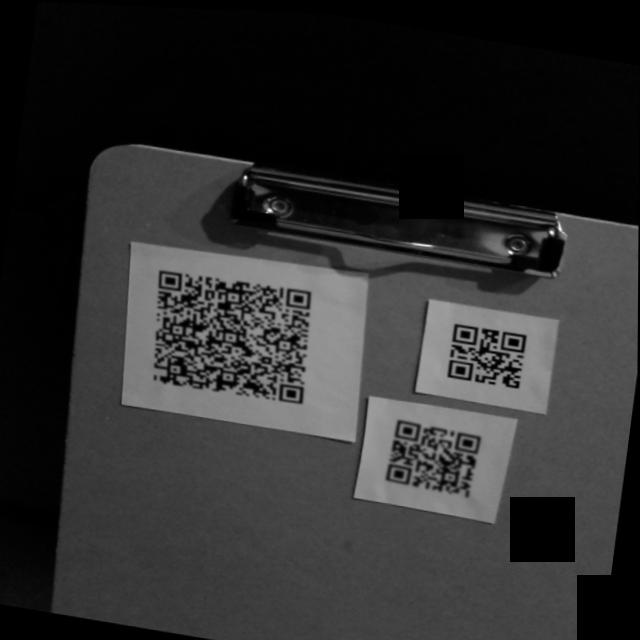QR_CODE: (131, 247, 334, 416), (368, 403, 493, 504), (428, 305, 537, 397)
